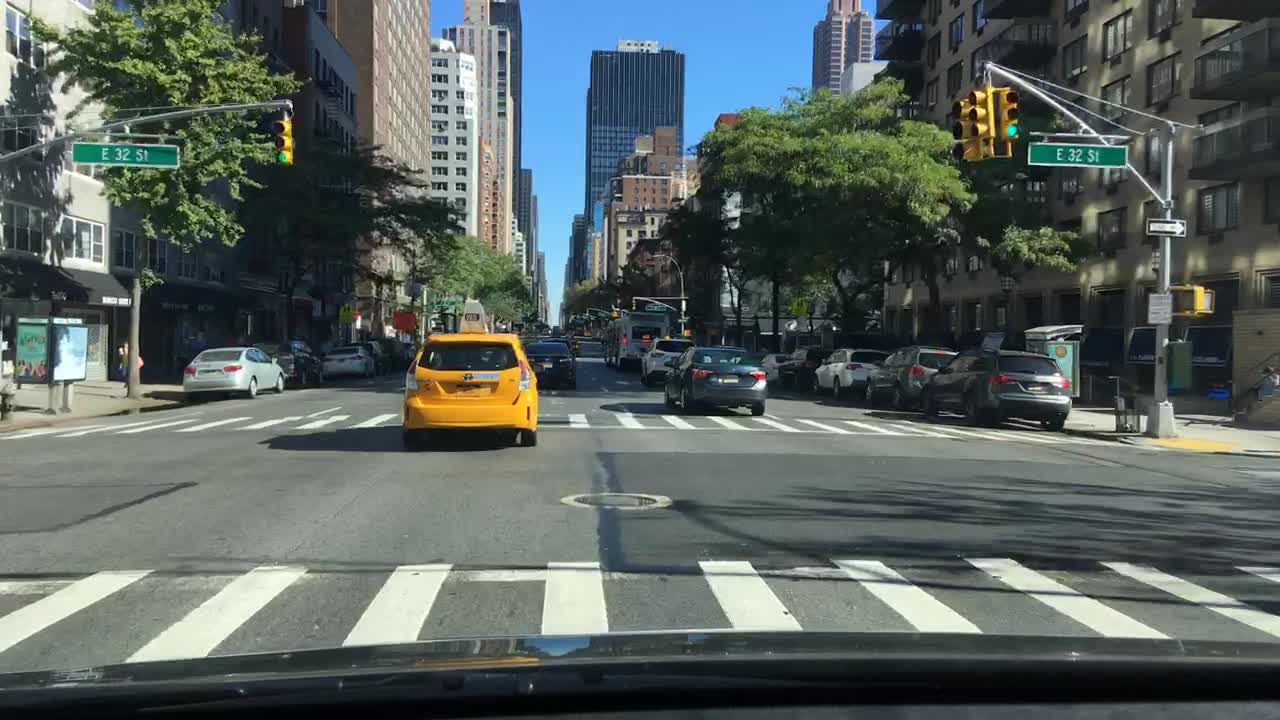bus: (597, 319, 671, 374)
car: (398, 297, 538, 445), (914, 344, 1070, 430), (660, 342, 766, 420), (860, 344, 963, 415), (179, 347, 282, 400), (253, 336, 325, 391), (810, 347, 886, 398), (634, 334, 698, 383), (523, 337, 579, 390), (776, 342, 833, 390), (317, 344, 376, 380), (359, 342, 395, 374), (762, 347, 791, 383), (381, 337, 408, 371), (550, 334, 577, 356), (398, 341, 417, 361)
person: (118, 339, 141, 390)
traffic light: (948, 98, 980, 162), (968, 83, 994, 135), (997, 84, 1022, 137), (271, 115, 293, 160), (1171, 287, 1203, 315), (1198, 287, 1213, 314)
traffic sign: (72, 142, 180, 165), (1029, 140, 1125, 164), (1146, 292, 1171, 322), (1146, 218, 1186, 236), (337, 300, 354, 326)
